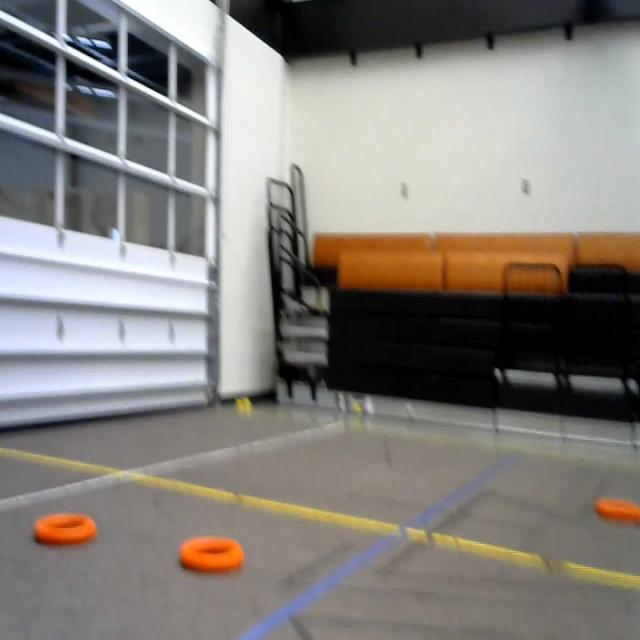note: (178, 516, 260, 582), (27, 503, 102, 559), (594, 488, 640, 535)
